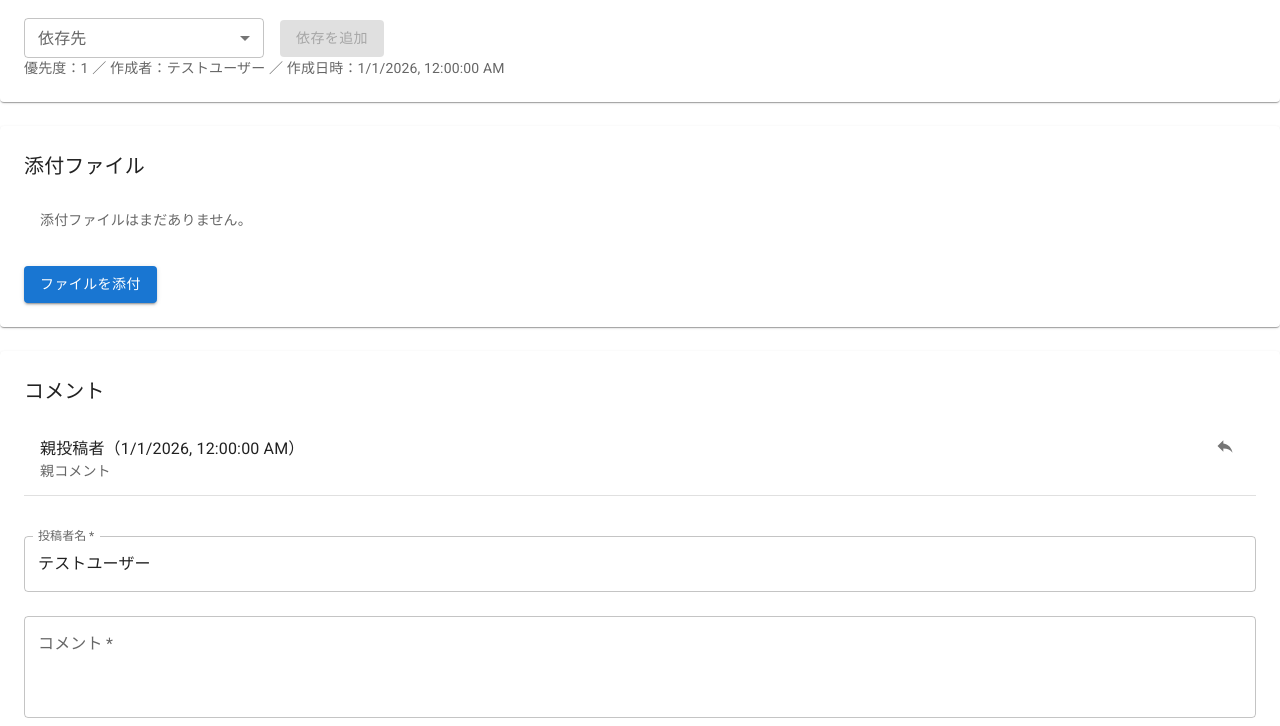
Test case: BacklogItemDetail › コメントスレッド表示 › 返信ボタンをクリックしたとき、返信入力フィールドが表示される
The width and height of the screenshot is (1280, 726).
(page scrolled)
Expected: the text "親コメント" is shown, [40,463,111,479]
# 返信ボタンをクリック
Click the button named "返信". click: [1225, 446]
box: [1210,431,1240,461]
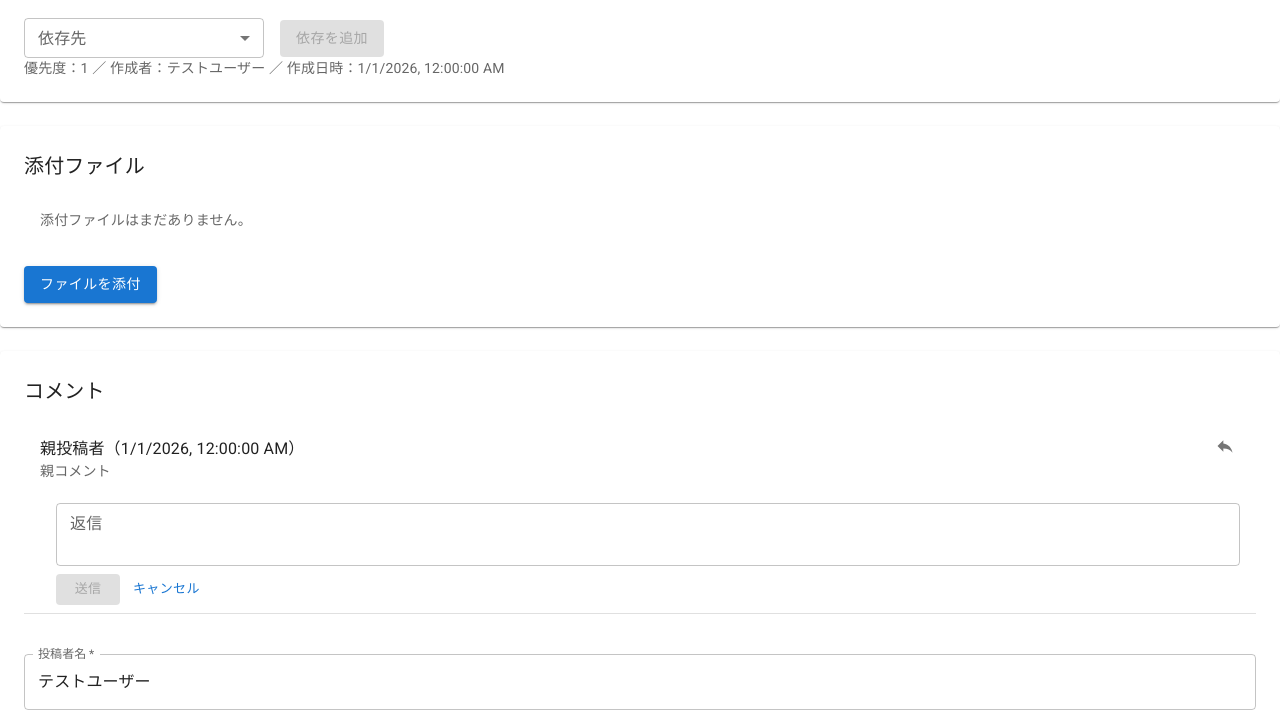
Now the element with test id "reply-textarea" is shown, box [56,503,1240,566]
